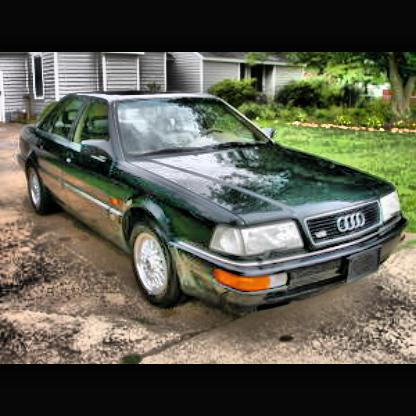Audi V8 Sedan 1994: (16, 93, 408, 309)
